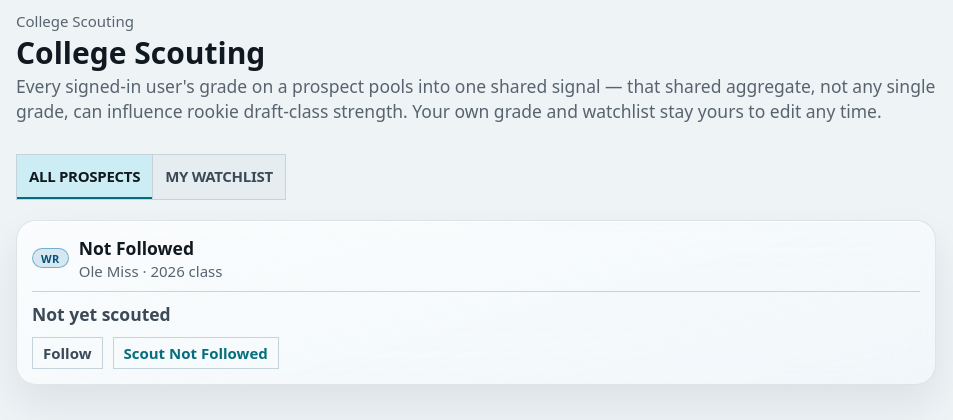
Test: CollegeScoutingContent › filters to My Watchlist and shows its own empty state
The image size is (953, 420).
Click the tab "My Watchlist" at (219, 177), box [152,155,285,199]
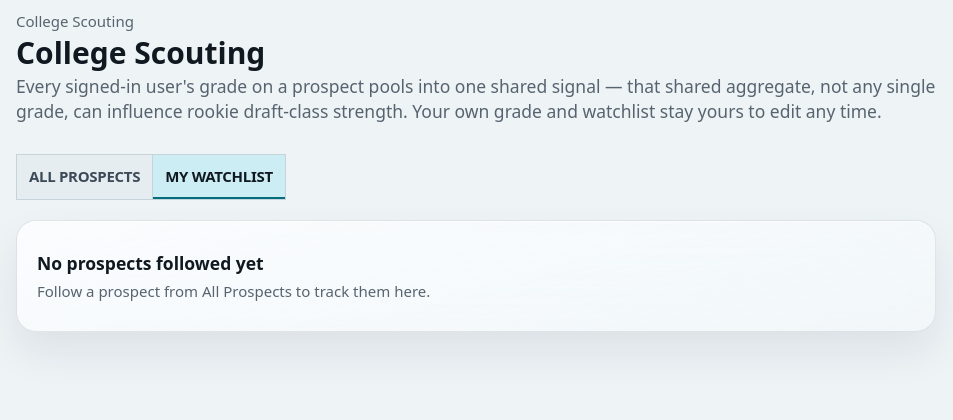
Expected: the text "Not Followed" is gone
Expected: the text "No prospects followed yet" is shown, [37,251,264,276]
